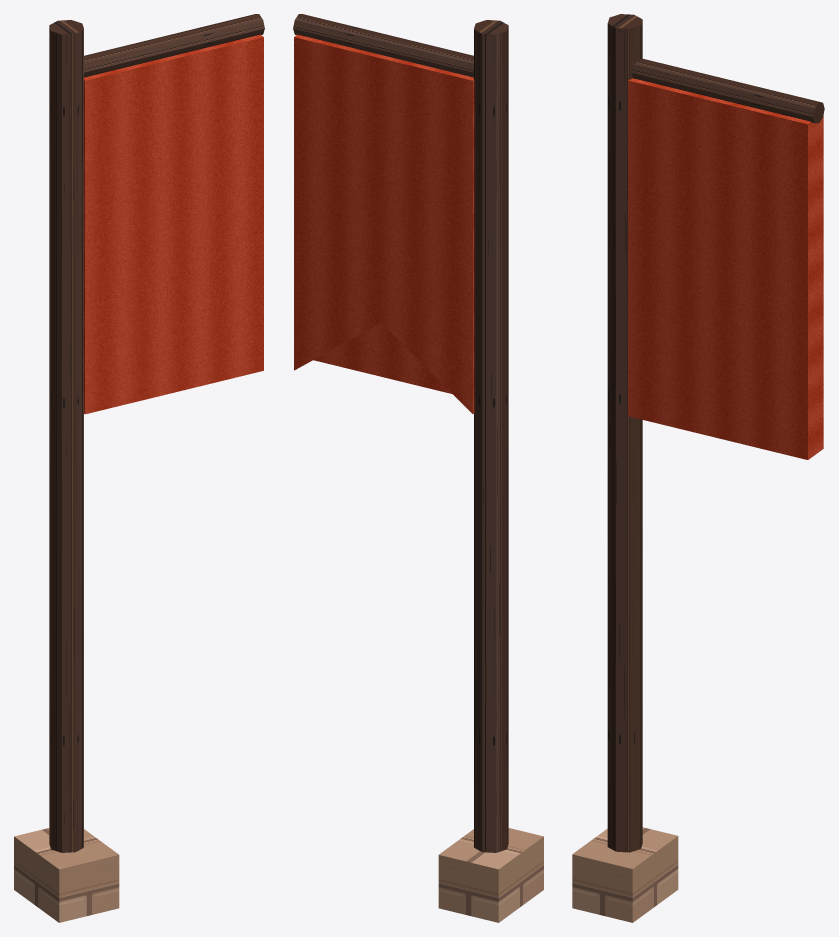
File: Decoration_Orange_Pennant.obj
The picture shows the model from 3 angles, left to right: view 1: azimuth 30°, elevation 25°; view 2: azimuth 150°, elevation 25°; view 3: azimuth 330°, elevation 25°; orthographic projection.
Visible parts, largest first — view 1: Cloth_Orange, Wood_Dark, Stone_Sand; view 2: Cloth_Orange, Wood_Dark, Stone_Sand; view 3: Cloth_Orange, Wood_Dark, Stone_Sand.
Boxes of the visible parts, box(x1,y1,x2,y2) form: Cloth_Orange: box(83, 34, 263, 414); Wood_Dark: box(49, 14, 264, 852); Stone_Sand: box(14, 828, 119, 922); Cloth_Orange: box(294, 34, 474, 413); Wood_Dark: box(293, 14, 508, 852); Stone_Sand: box(438, 828, 543, 922); Cloth_Orange: box(628, 78, 823, 459); Wood_Dark: box(607, 14, 824, 852); Stone_Sand: box(572, 827, 678, 922).
Size of the model in its own units: 0.74 by 2.77 by 0.26.
3 materials, 3 textured.
